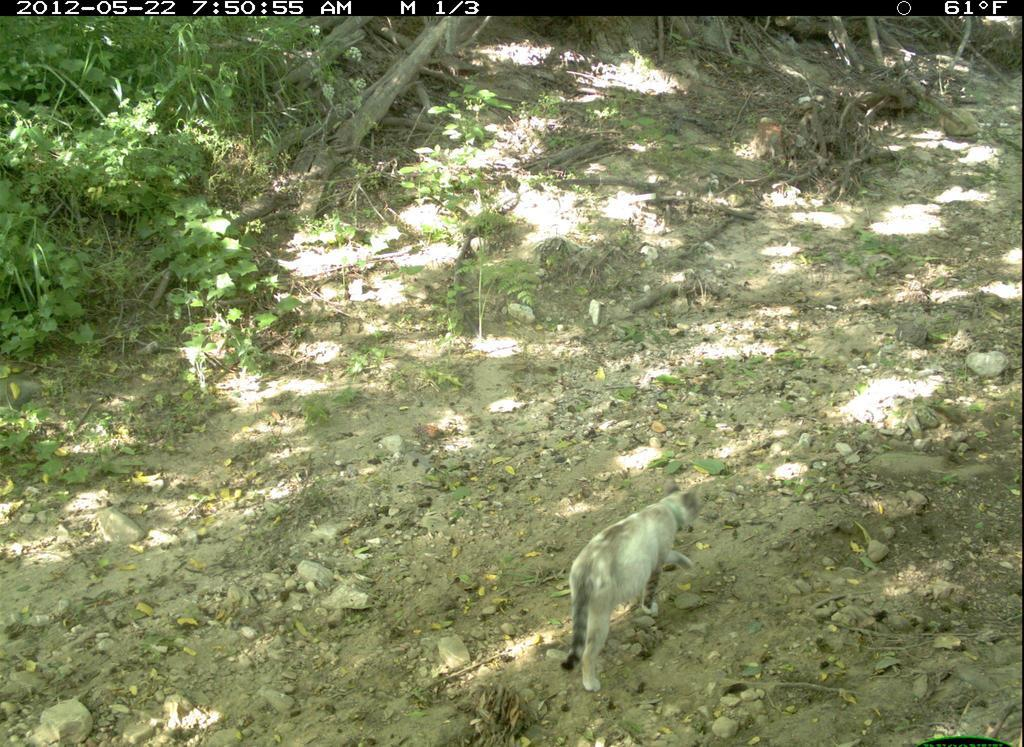cat: (556, 481, 711, 697)
